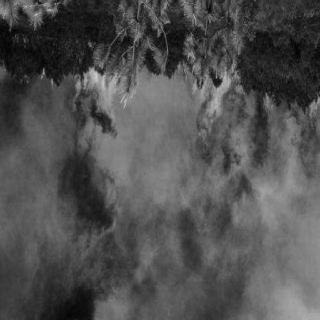Fire: (175, 60, 243, 162), (60, 47, 121, 144), (257, 96, 319, 142)
Smoke: (1, 146, 311, 320), (123, 69, 177, 147), (18, 79, 62, 143)
